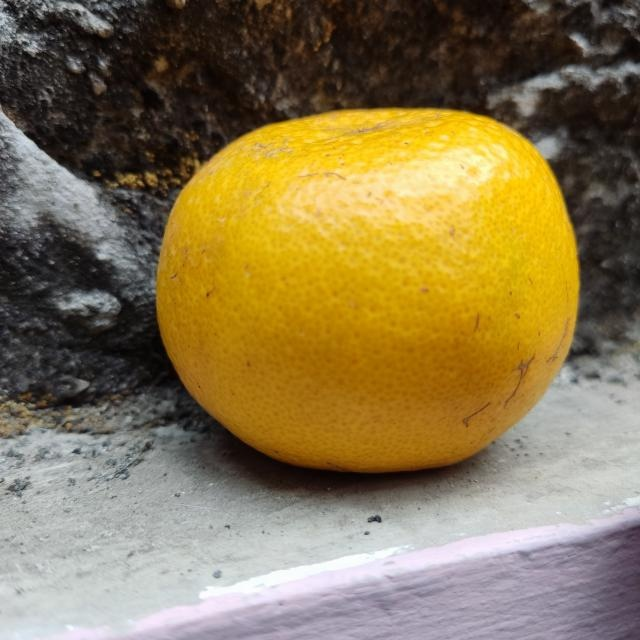agrume: (154, 105, 582, 478)
